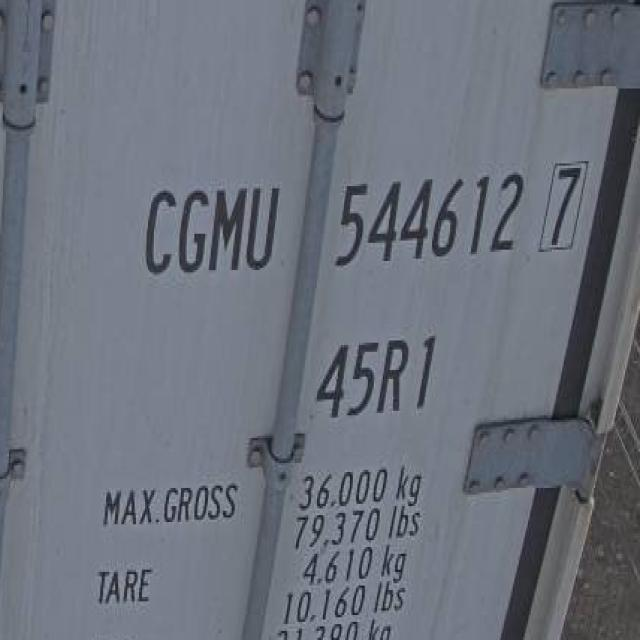dv: (540, 149, 589, 266)
owner: (133, 172, 284, 288)
serial: (330, 154, 526, 284)
size: (309, 324, 449, 434)
